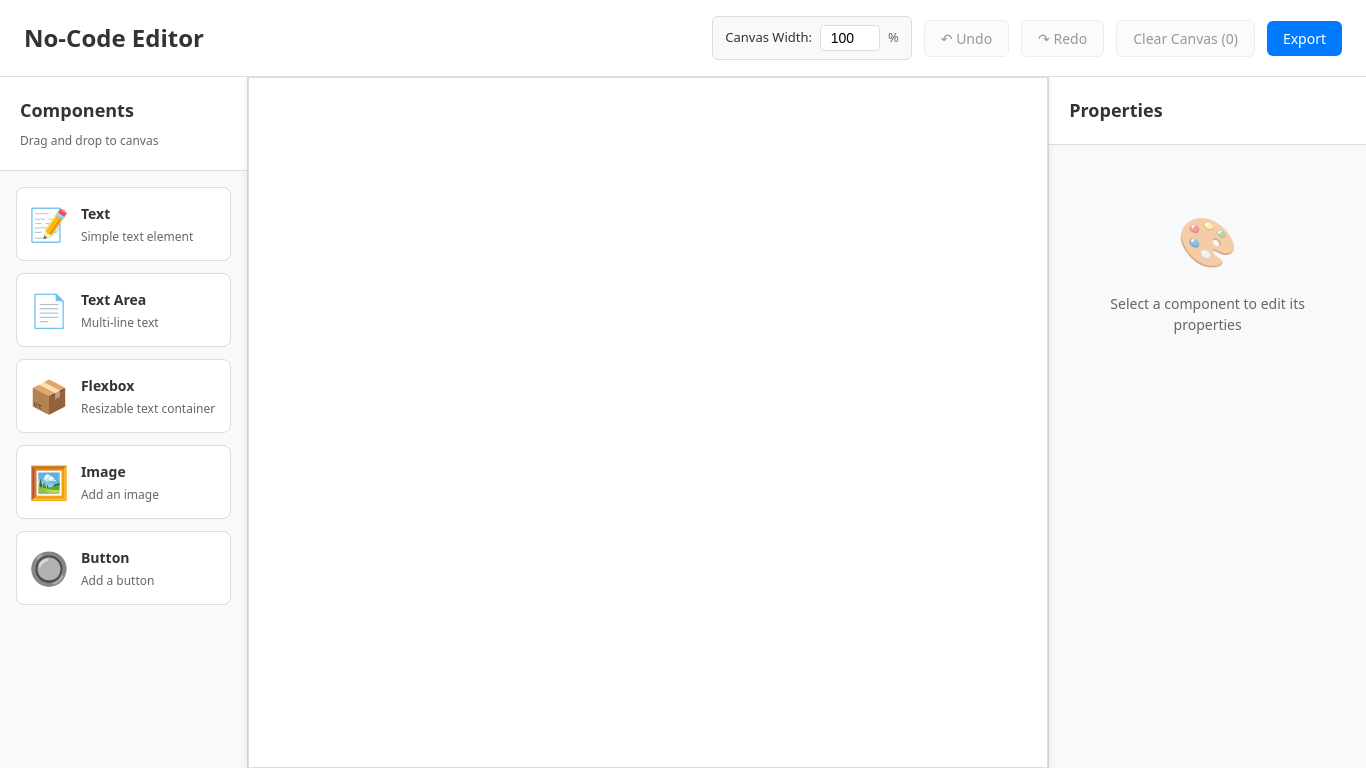
Test case: App Component › Export Modal › opens export modal when Export button clicked
What coordinates should you click on to do the following:
click the button "Export"
I would click on:
 (1304, 38)
Its box is 1267,20 -> 1342,56.
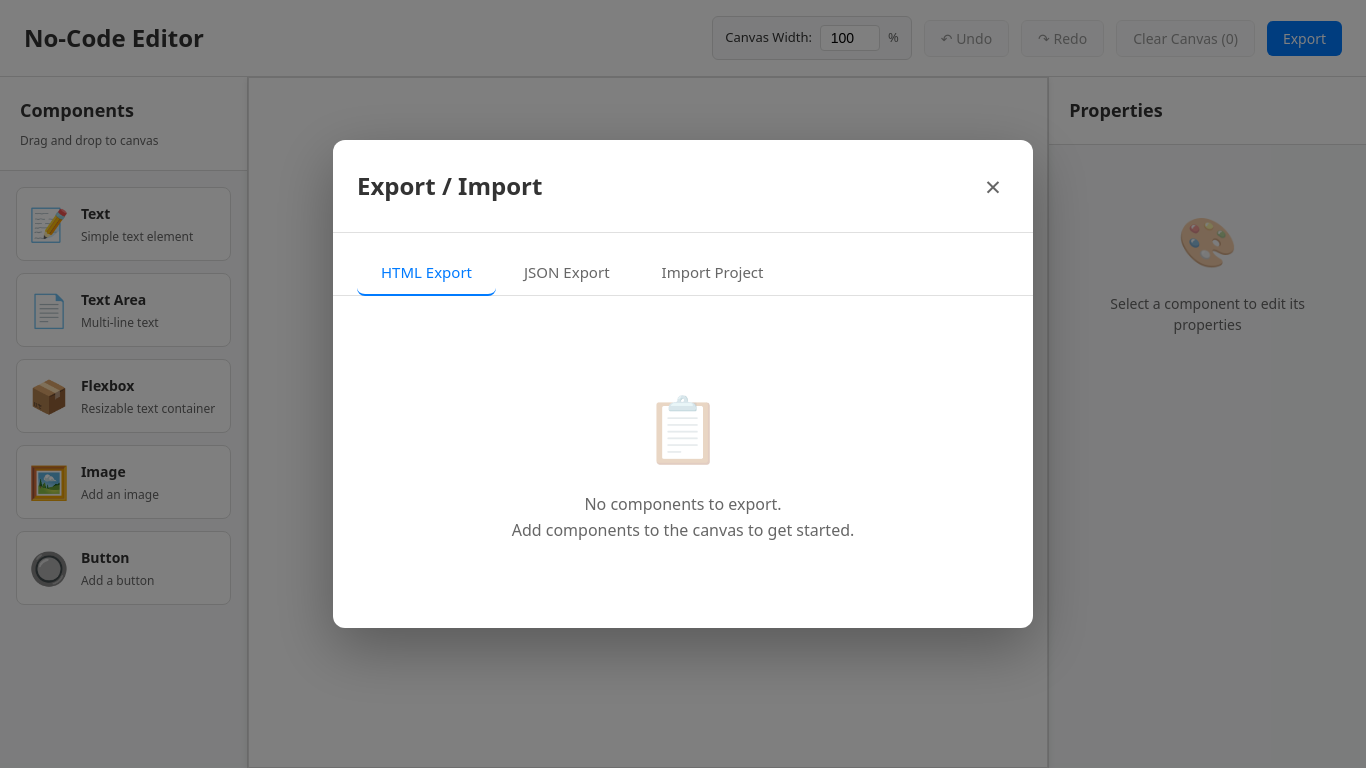
Now the button "HTML Export" is shown, box 357,250 -> 496,296
Now the button "JSON Export" is shown, box 500,250 -> 634,296
